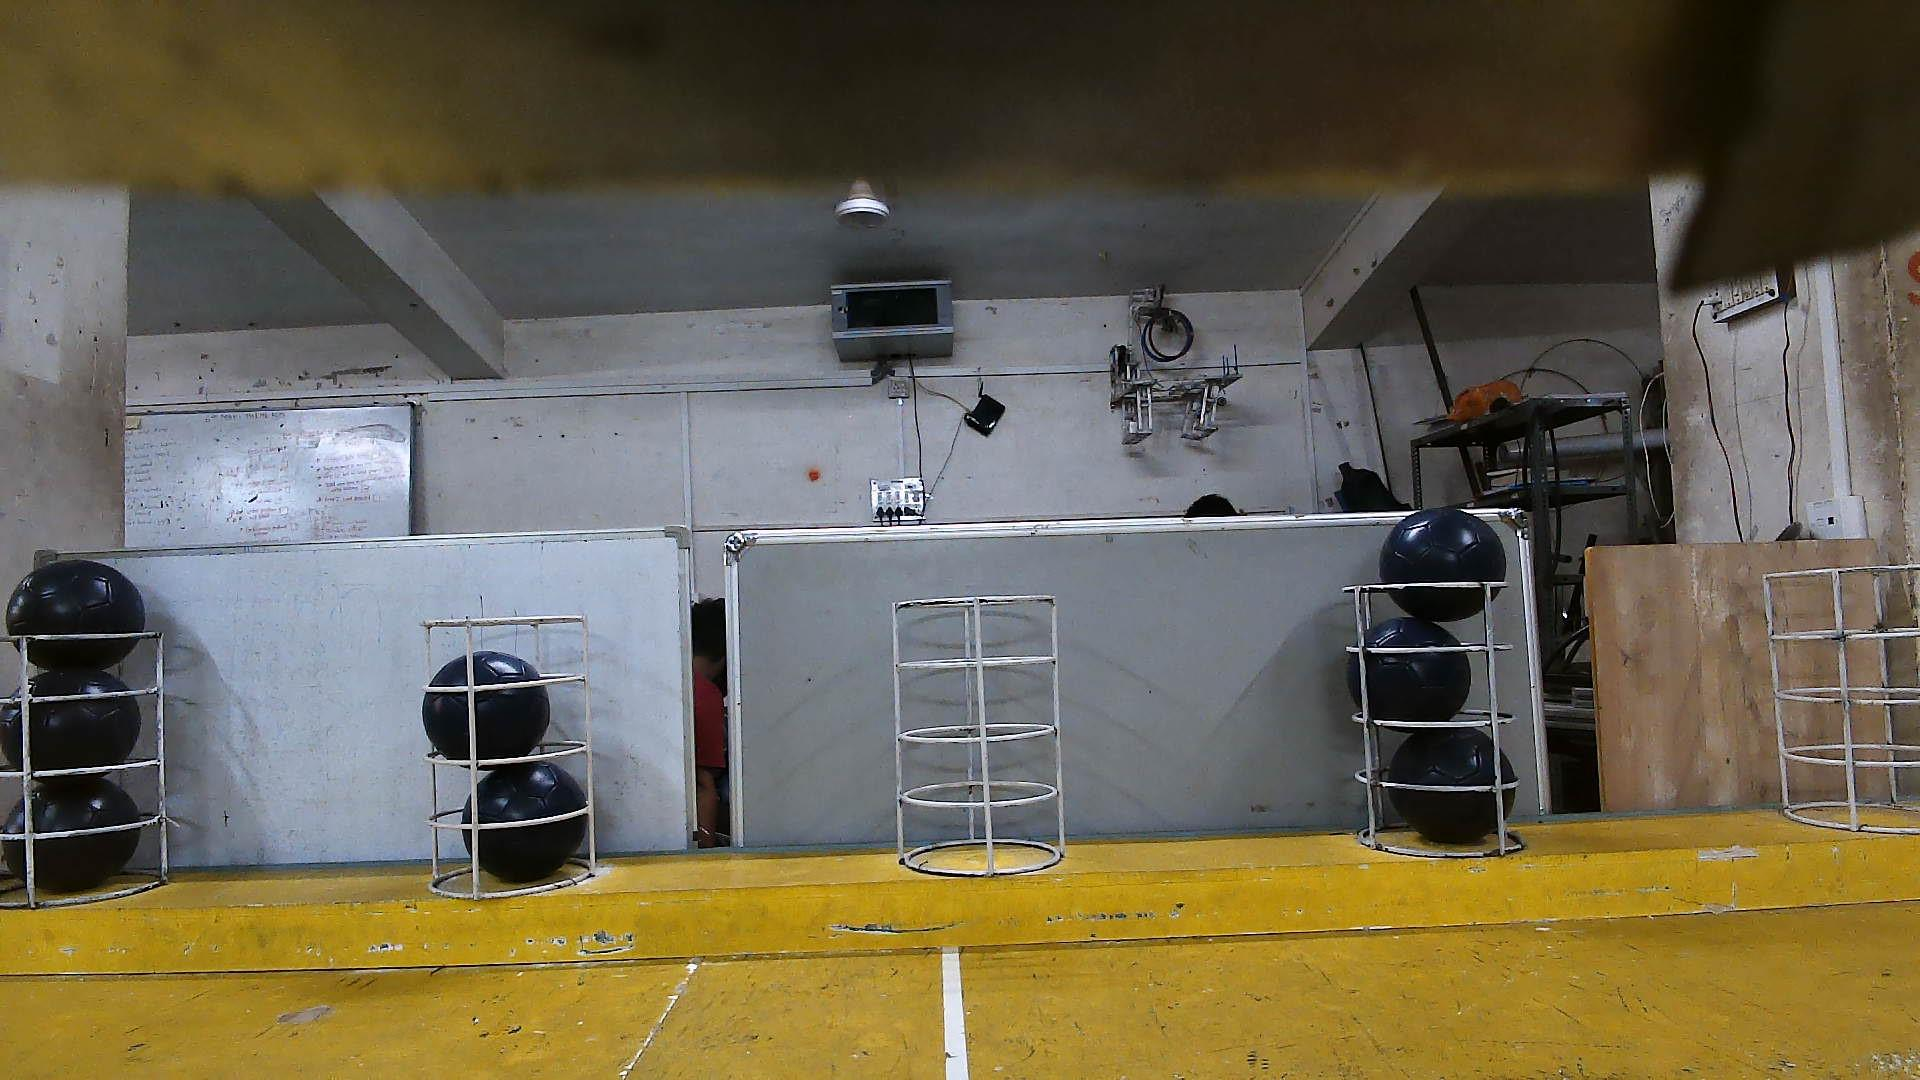dhoka: (0, 778, 124, 897), (7, 558, 125, 675), (0, 661, 121, 773), (1373, 731, 1494, 841), (1331, 617, 1453, 720), (1389, 516, 1501, 628), (473, 766, 589, 873), (431, 646, 542, 757)
